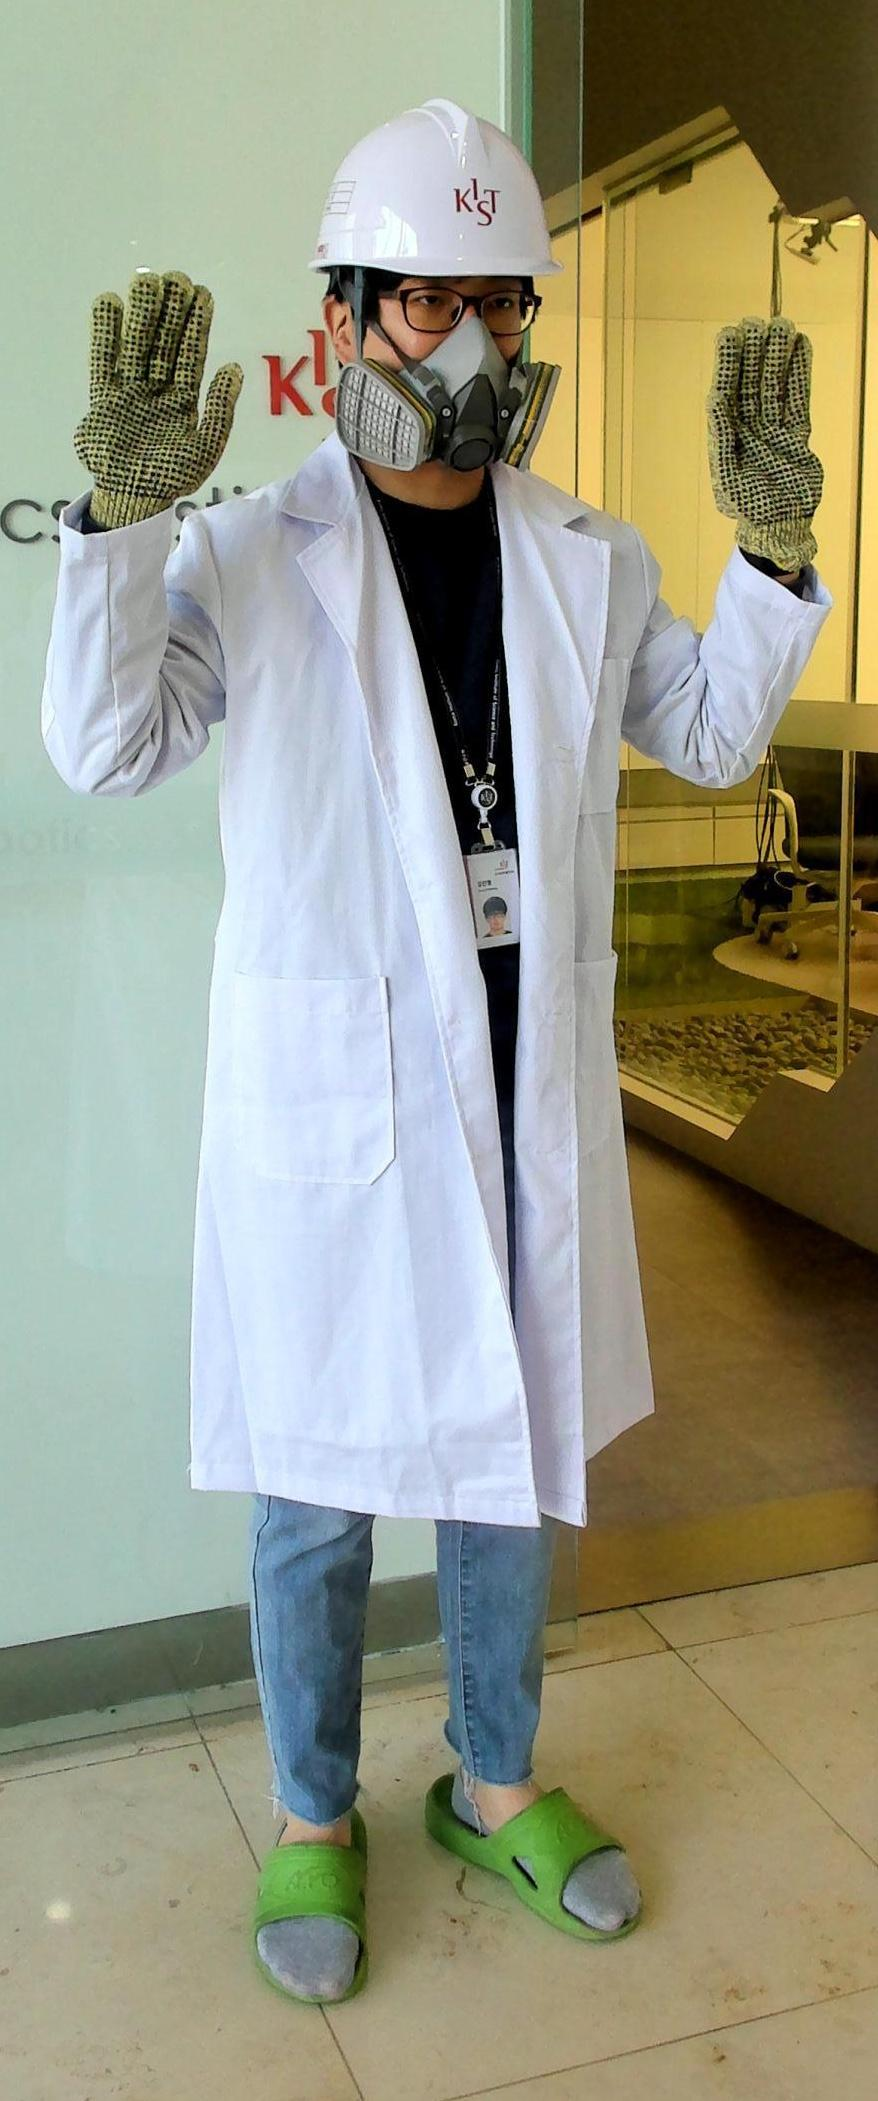lab_coat: (181, 516, 681, 1502)
